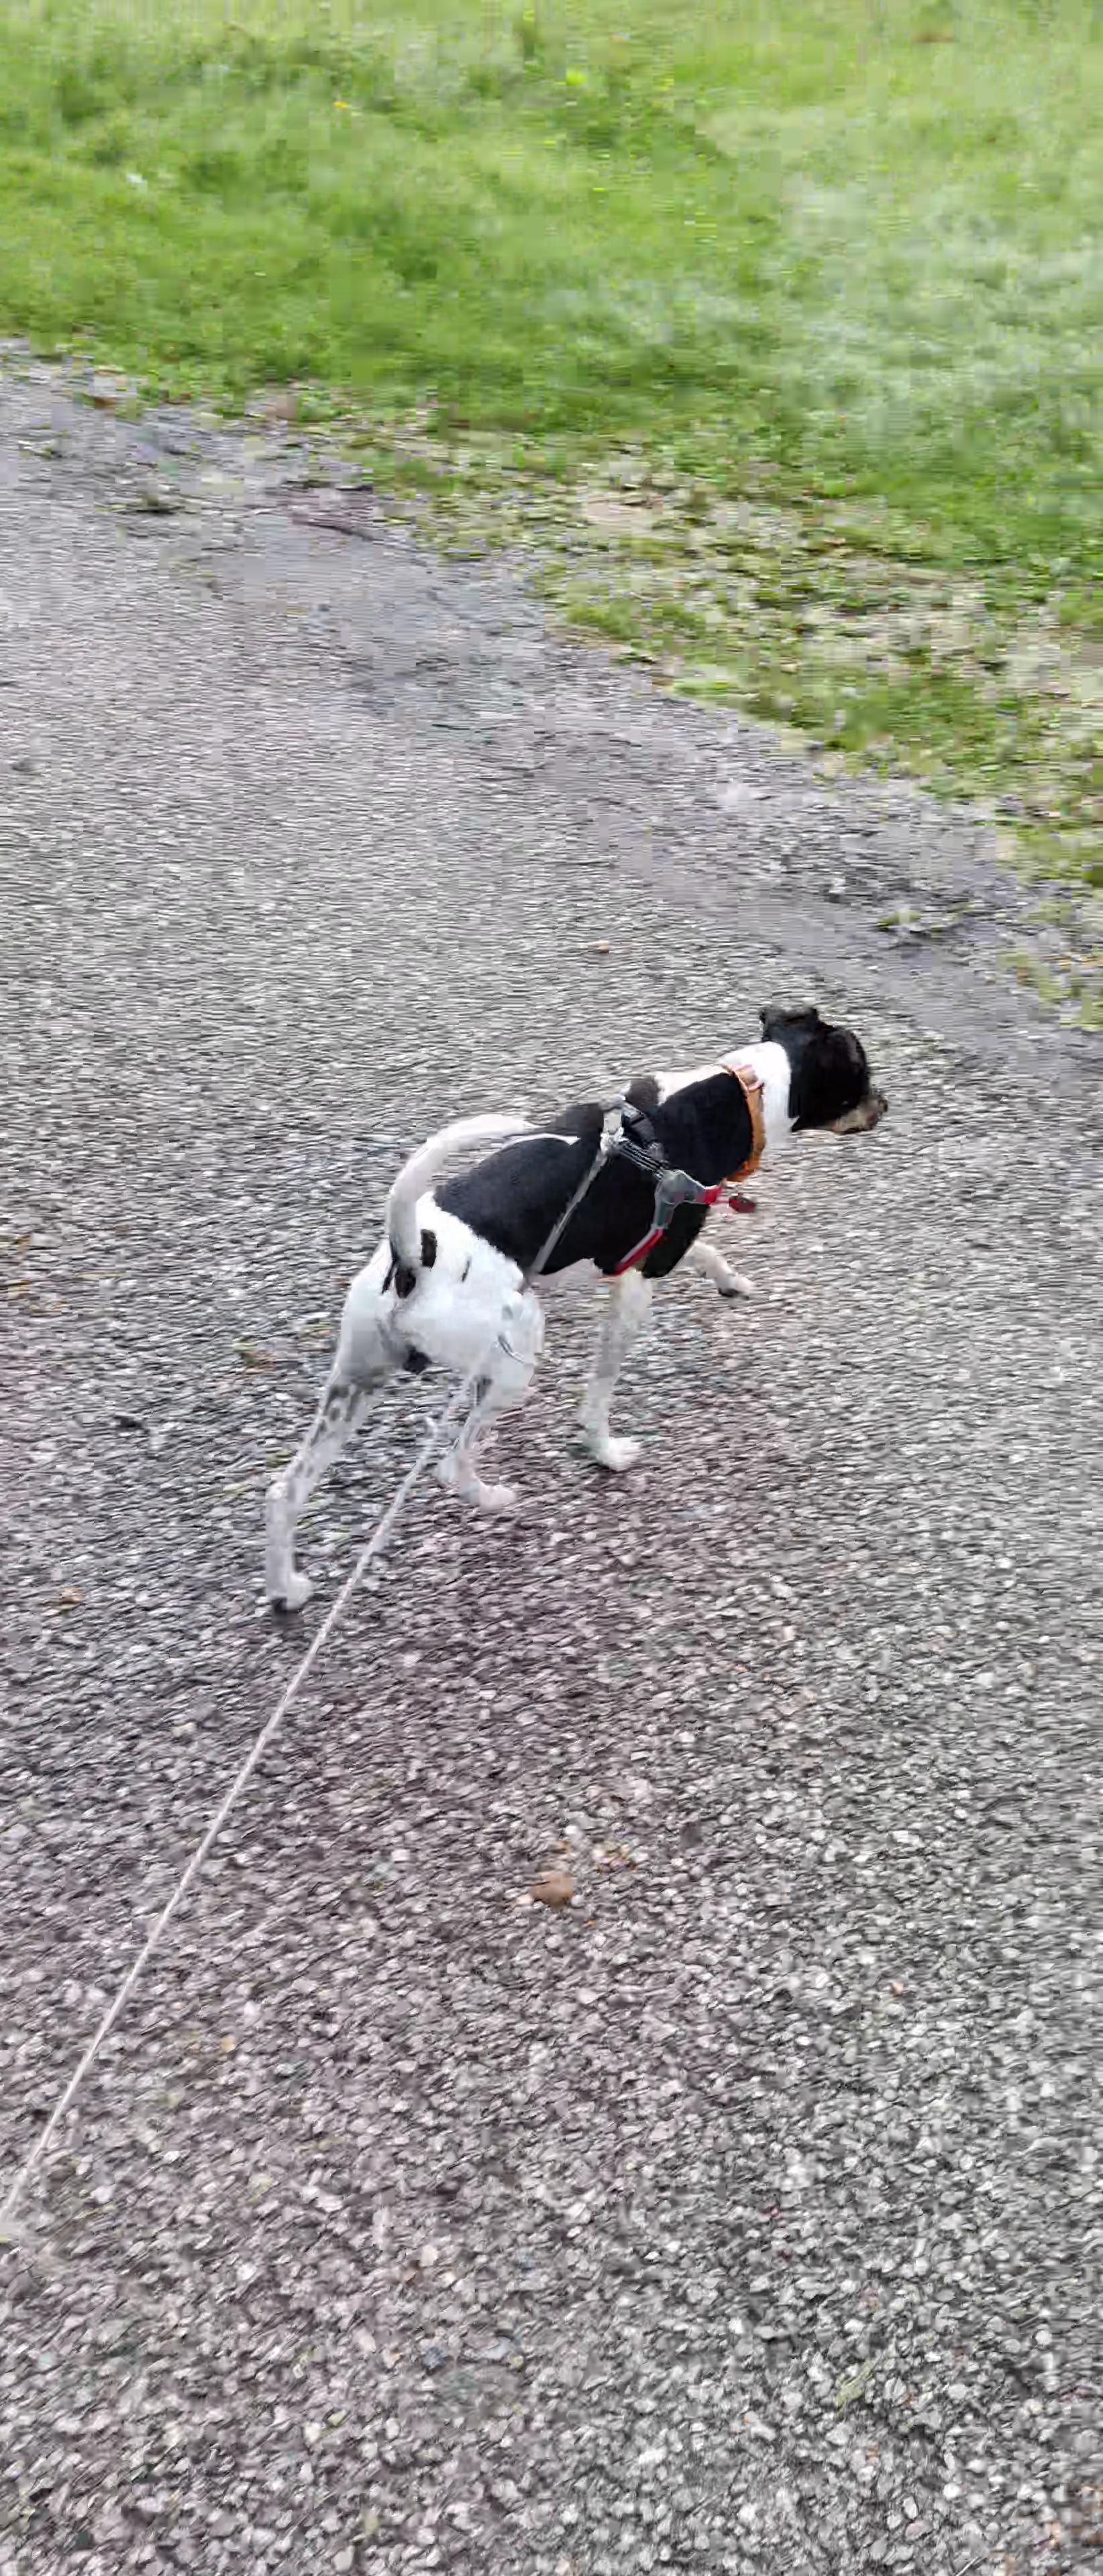Dog: (252, 1005, 894, 1615)
